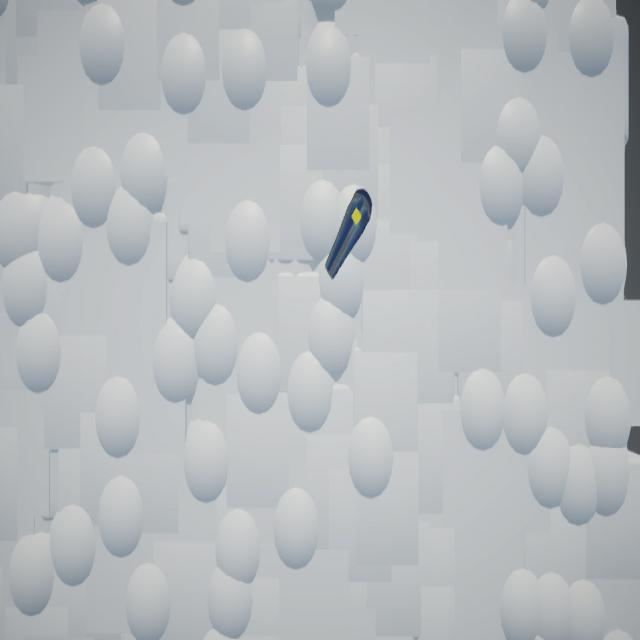handle_knife: (325, 190, 374, 282)
